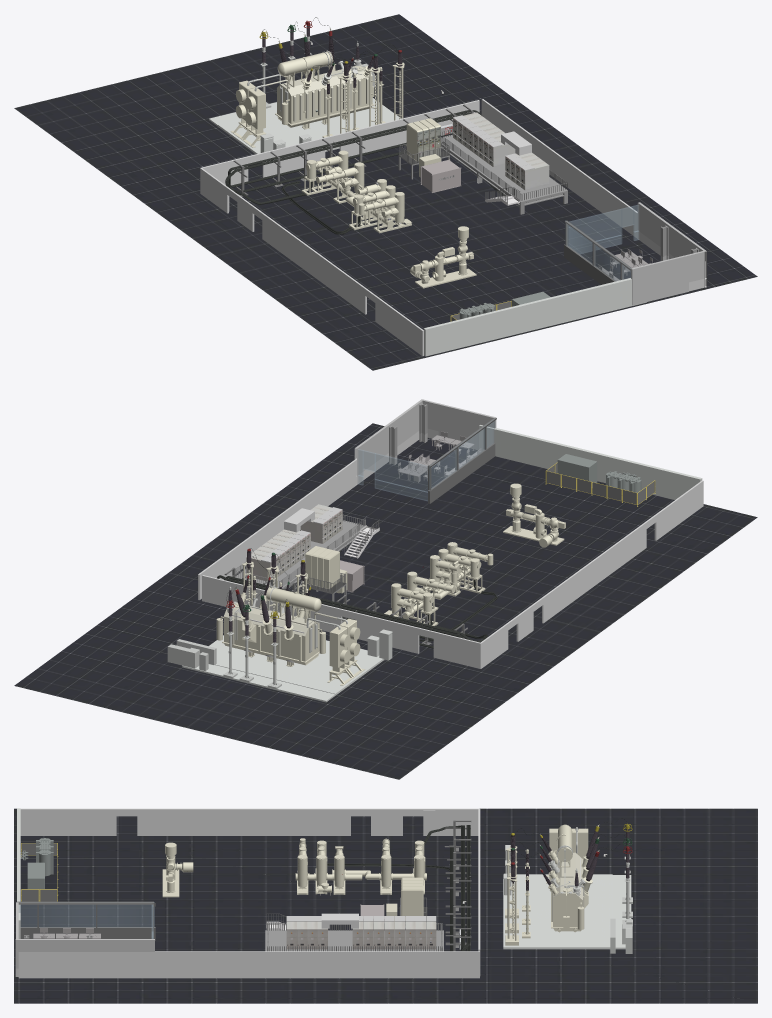
Rendered from FullScene_0721_TextGeo2-transformed.glb.
The picture shows the model from 3 angles, top to bottom: view 1: azimuth 30°, elevation 25°; view 2: azimuth 150°, elevation 25°; view 3: azimuth 270°, elevation 25°; orthographic projection. The views are drawn at different scales.
Visible parts, largest first — view 1: Ground, pillars, Cube.002, walls.001, pPlane20.001, Rectangle2123442718, Cylinder.004, switchGear.001; view 2: Ground, pillars, Cube.002, walls.001, pPlane20.001, Rectangle2123442718, Cylinder.004; view 3: Ground, pillars, Cube.002, walls.001, pPlane20.001, Rectangle2123442718, Cylinder.004.
Part boxes in pixels (box(x1,y1,x2,y2)): Ground: box(14, 14, 757, 370); pillars: box(209, 17, 706, 356); Cube.002: box(200, 99, 705, 356); walls.001: box(564, 205, 638, 284); pPlane20.001: box(453, 112, 549, 190); Rectangle2123442718: box(399, 159, 550, 319); Cylinder.004: box(277, 51, 333, 87); switchGear.001: box(417, 126, 440, 160); Ground: box(14, 423, 757, 779); pillars: box(167, 399, 702, 702); Cube.002: box(198, 439, 703, 668); walls.001: box(358, 418, 496, 503); pPlane20.001: box(246, 504, 342, 581); Rectangle2123442718: box(340, 454, 641, 592); Cylinder.004: box(266, 586, 321, 622); Ground: box(14, 808, 757, 1003); pillars: box(15, 808, 632, 976); Cube.002: box(18, 808, 580, 978); walls.001: box(17, 901, 155, 940); pPlane20.001: box(286, 916, 436, 949); Rectangle2123442718: box(20, 838, 384, 929); Cylinder.004: box(557, 824, 572, 867).
Size of what is drawn, in the model's own units: 35.68 by 7.6 by 57.54.
29 materials, 28 textured.
